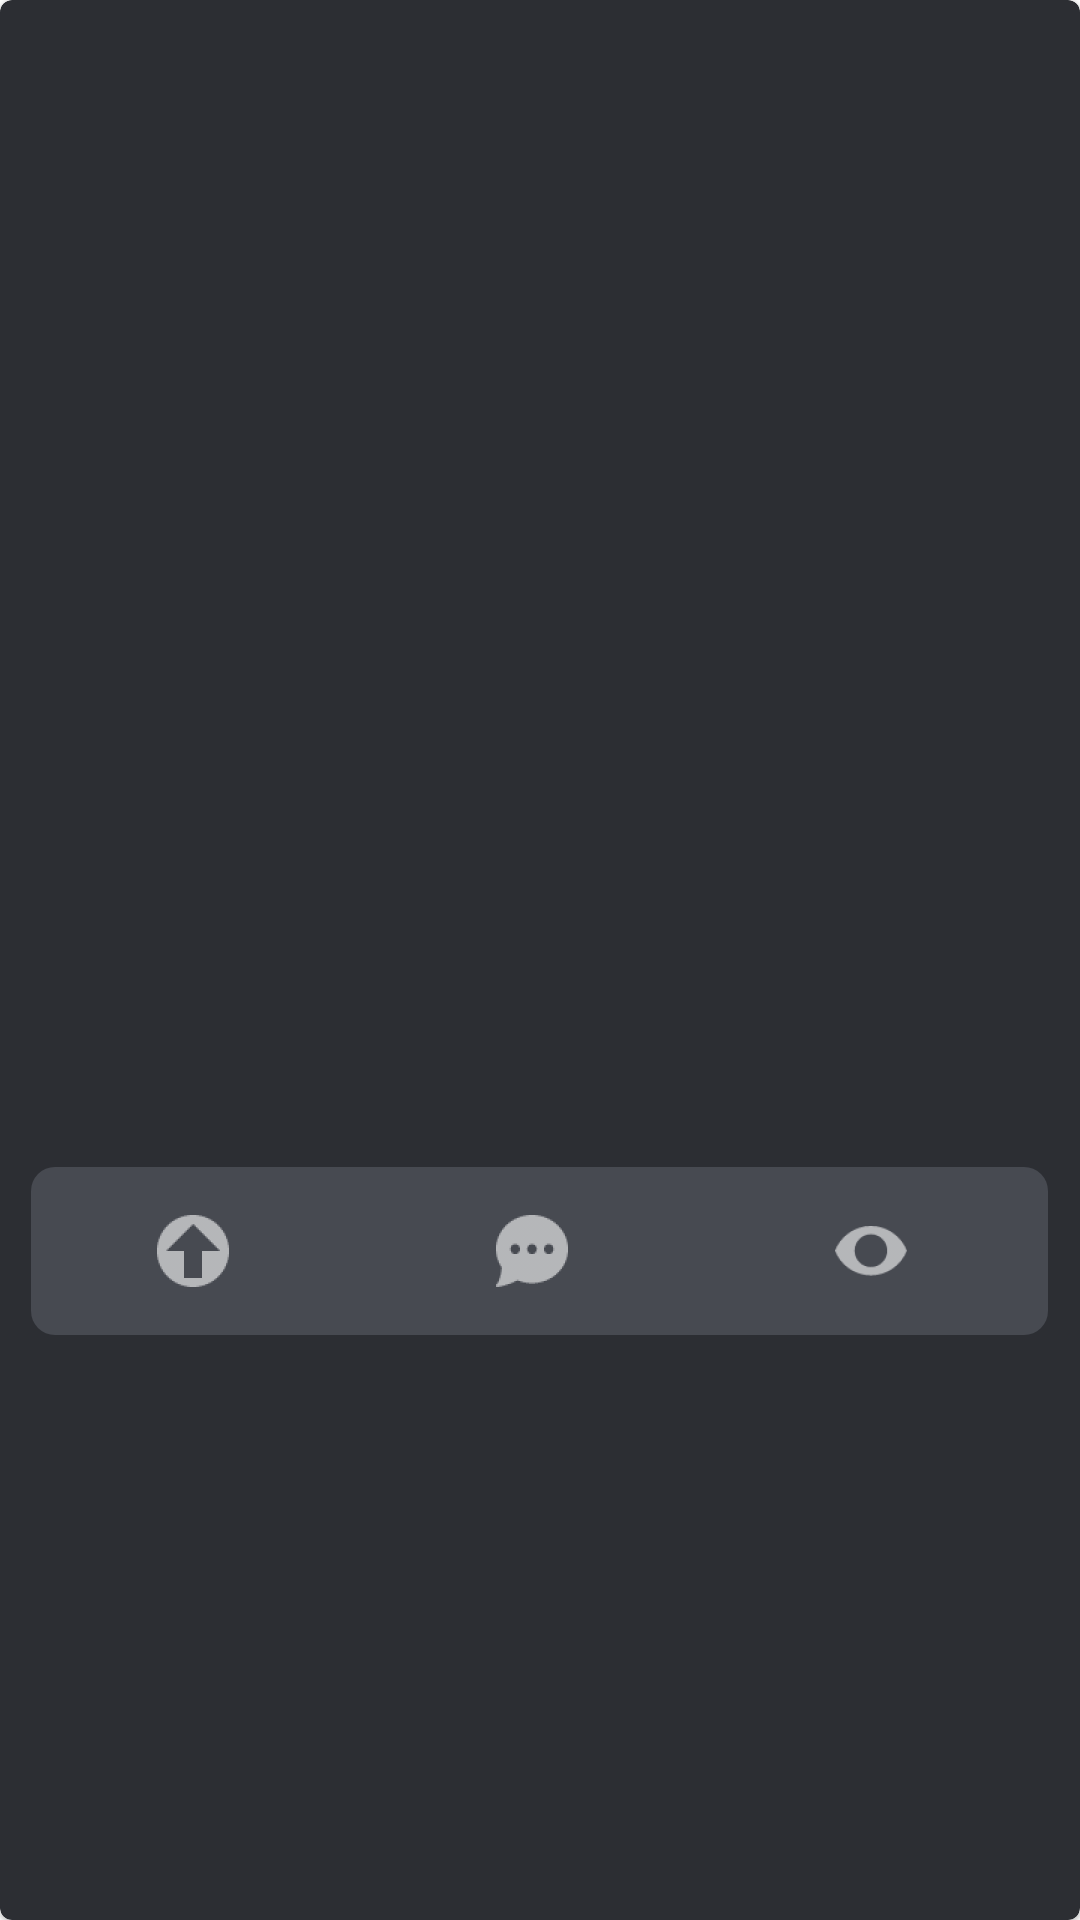

Where icons sit on this 1080w x 1920h app screen, as (x1, y1, x2, y2):
arrow: (157, 1215, 229, 1287)
comment: (496, 1215, 568, 1287)
eye: (835, 1226, 907, 1276)
